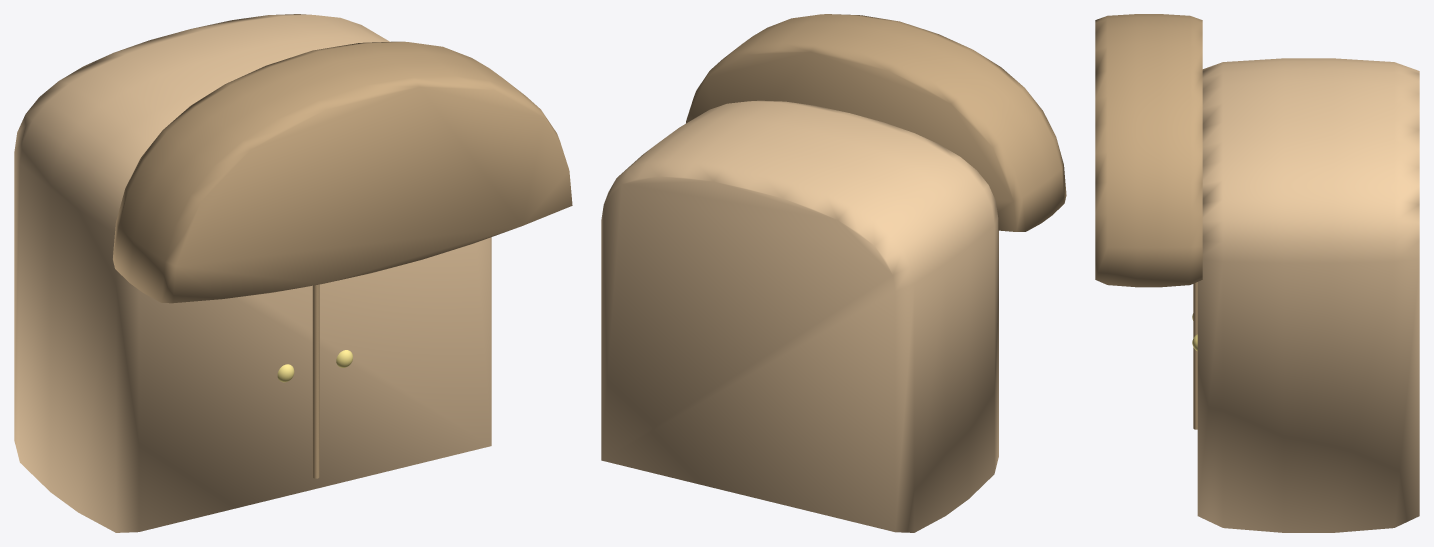
File: decor_4_classic.glb
3 views of the same model, side by side, from view 1: azimuth 30°, elevation 25°; view 2: azimuth 150°, elevation 25°; view 3: azimuth 270°, elevation 25° (orthographic). The views are drawn at different scales.
Visible parts, largest first — view 1: decor_4_classic; view 2: decor_4_classic; view 3: decor_4_classic.
Boxes of the visible parts, x1,y1,x2,y2 form: decor_4_classic: [14, 14, 572, 532]; decor_4_classic: [601, 14, 1066, 532]; decor_4_classic: [1095, 14, 1419, 532].
Size of the model in its own units: 14.04 by 14.82 by 10.73.
